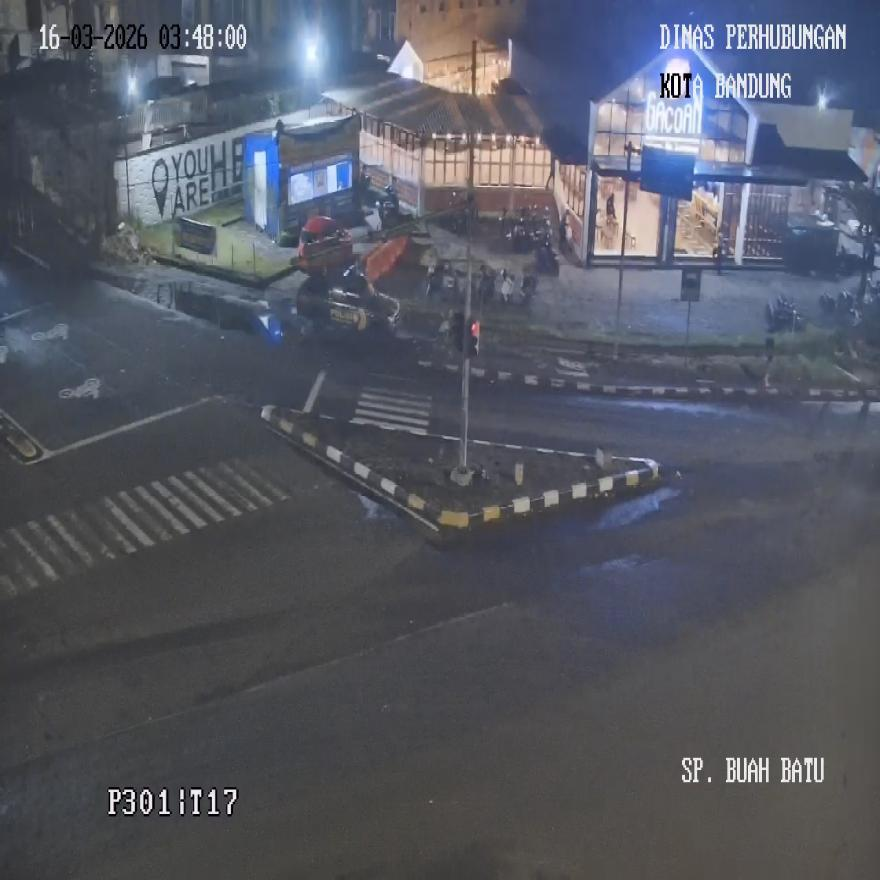Motor: (765, 294, 803, 332), (535, 237, 558, 274), (479, 262, 496, 303), (520, 262, 537, 303), (498, 266, 514, 304)
